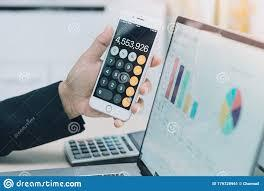Calculator: (93, 44, 146, 108)
